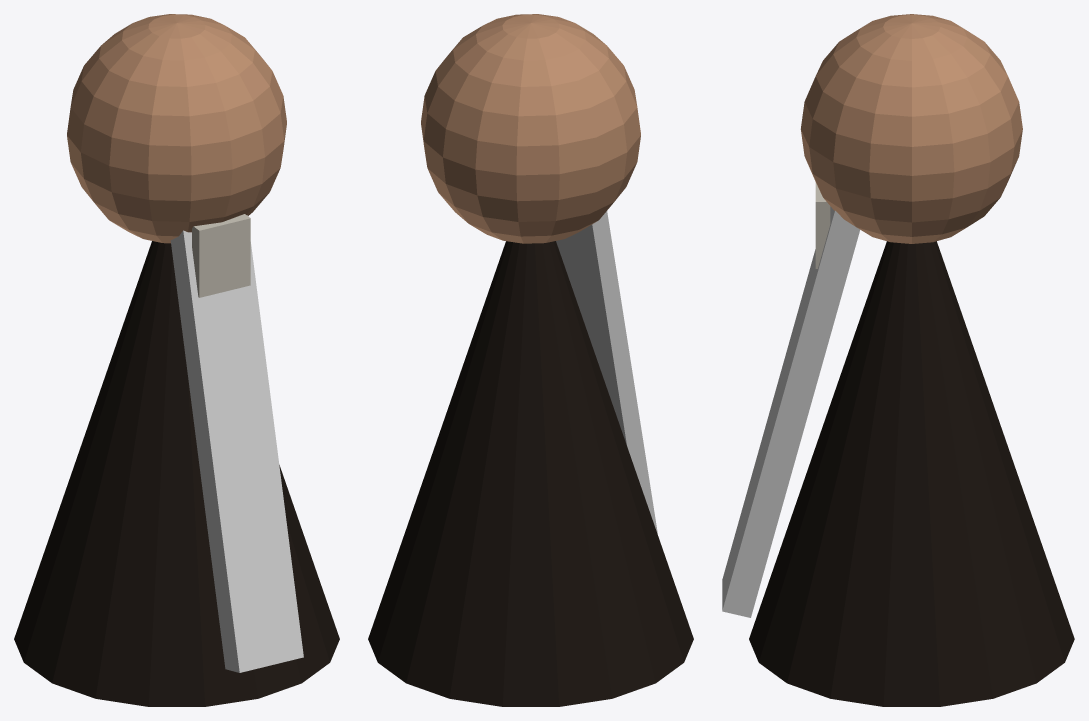
The model's file is priest.73357485.glb.
3 renders of one model, left to right at view 1: azimuth 30°, elevation 25°; view 2: azimuth 150°, elevation 25°; view 3: azimuth 270°, elevation 25°, orthographic.
Visible parts, largest first — view 1: body, accent; view 2: body, accent; view 3: body, accent.
Boxes of the visible parts, <box> form: body: <box>14,14,339,706</box>; accent: <box>170,215,303,672</box>; body: <box>368,14,693,706</box>; accent: <box>556,211,657,533</box>; body: <box>749,14,1074,706</box>; accent: <box>722,206,859,617</box>.
Size of the model in its own units: 0.4333 by 0.9175 by 0.4761.
